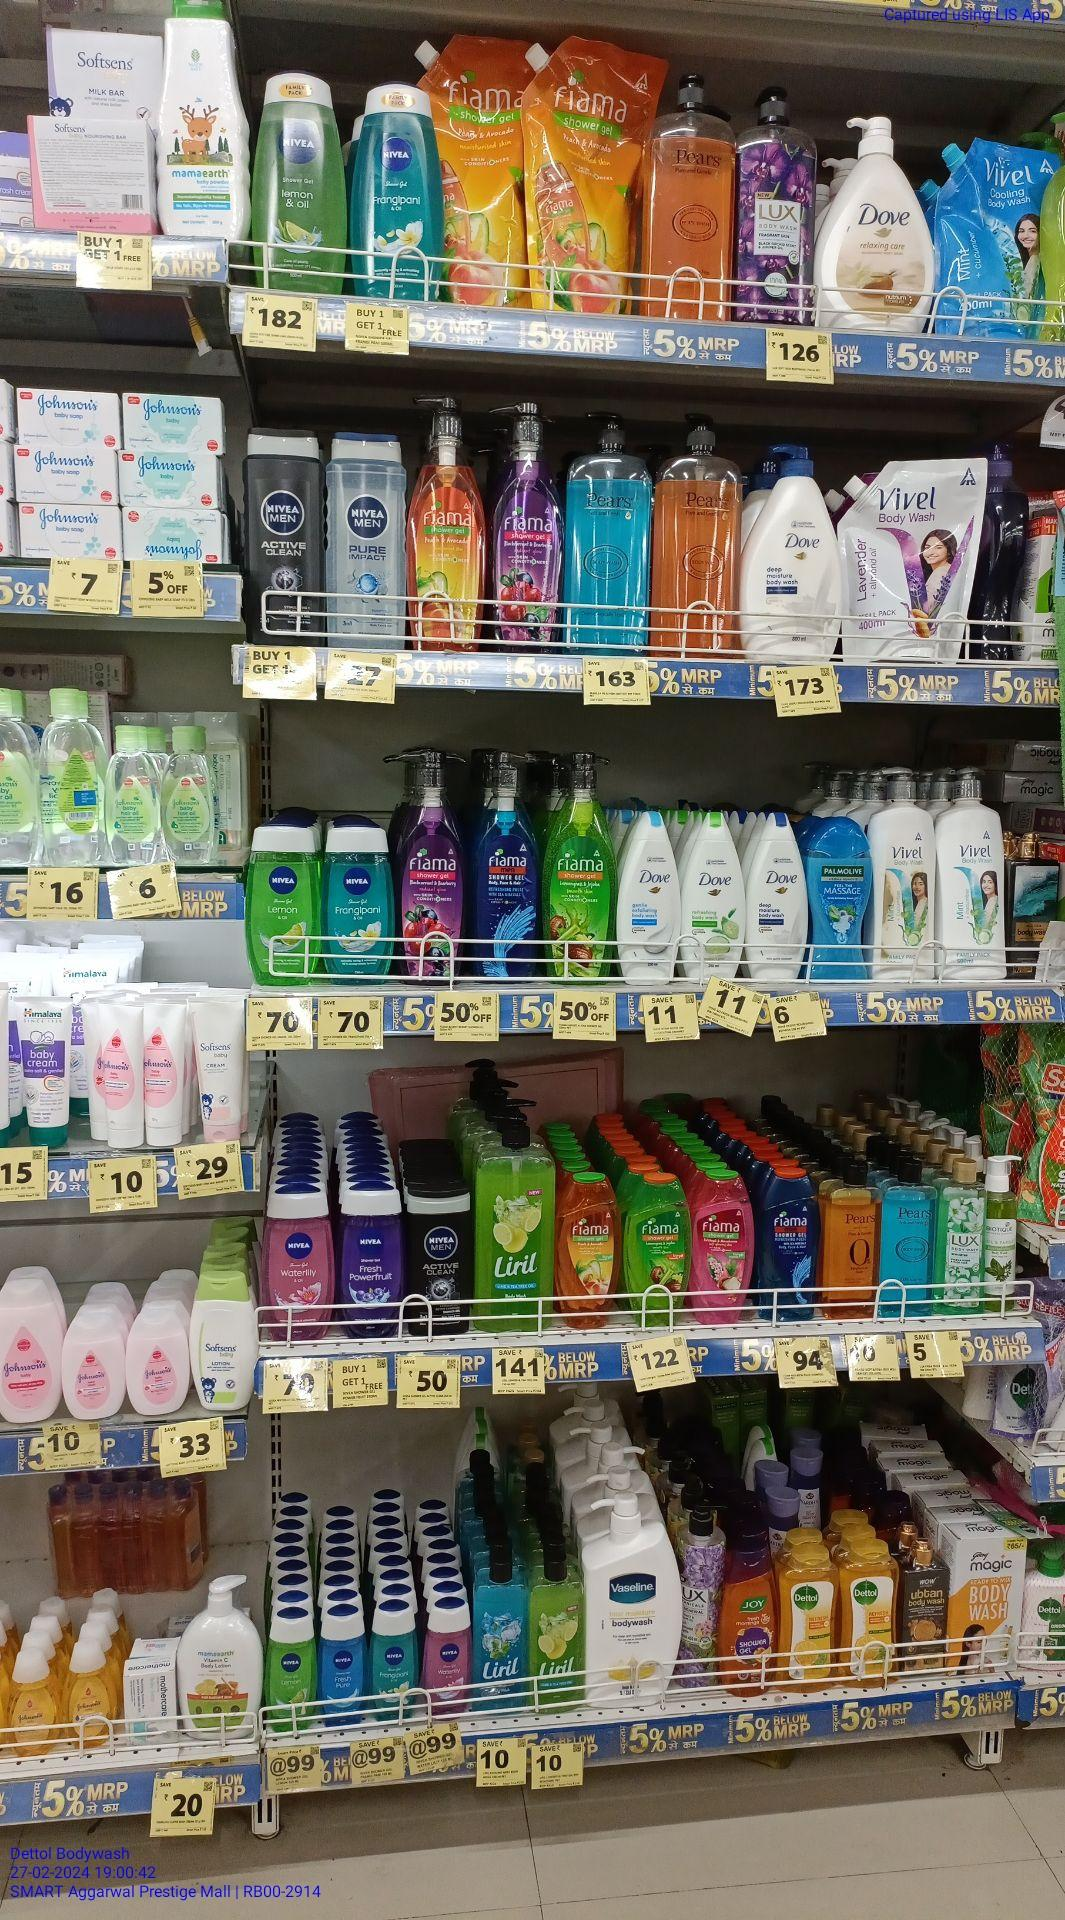Dettol_Bodywash_Refresh: (845, 1542, 901, 1689), (782, 1553, 837, 1697)
Dove_Deep_Moisture_Body_Wash_250ML: (748, 810, 808, 988)
Dove_Gentle_Exfoliating_Body_Wash_250ML: (616, 808, 678, 990)
Dove_Refreshing_Body_Wash_250ML: (683, 807, 740, 984)
Fiama_Shower_Gel_Lemongrass_and_Jojoba_250ML: (630, 1171, 689, 1326)
Fiama_Shower_Gel_Patchouli_and_Macadamia_250ML: (695, 1171, 754, 1326)
Fiama_Shower_Gel_Peach_and_Avocado_250ML: (559, 1172, 620, 1331)
Joy_Shower_Gel_Mandarin_and_Lemongrass_250ML: (721, 1541, 775, 1698)
Liril_Cooling_Mint_Body_Wash_250ML: (473, 1565, 529, 1714)
Liril_Lime_and_Tea_Tree_Oil_Body_Wash_250ML: (534, 1562, 586, 1715)
Nivea_Shower_Gel_Frangipani_and_Oil_250ML: (354, 77, 447, 306), (319, 822, 393, 984), (370, 1604, 418, 1726)
Nivea_Shower_Gel_Fresh_Powerfruit_250ML: (338, 1179, 407, 1340)
Nivea_Shower_Gel_Lemon_and_Oil_250ML: (257, 68, 349, 298), (245, 828, 316, 990), (266, 1613, 315, 1736)
Nivea_Shower_Gel_Waterlily_and_Oil_250ML: (266, 1184, 331, 1347), (426, 1601, 464, 1725)
Palmolive_Aroma_Moments_Feel_The_Massage_Shower_Gel_250ML: (811, 817, 876, 985)
